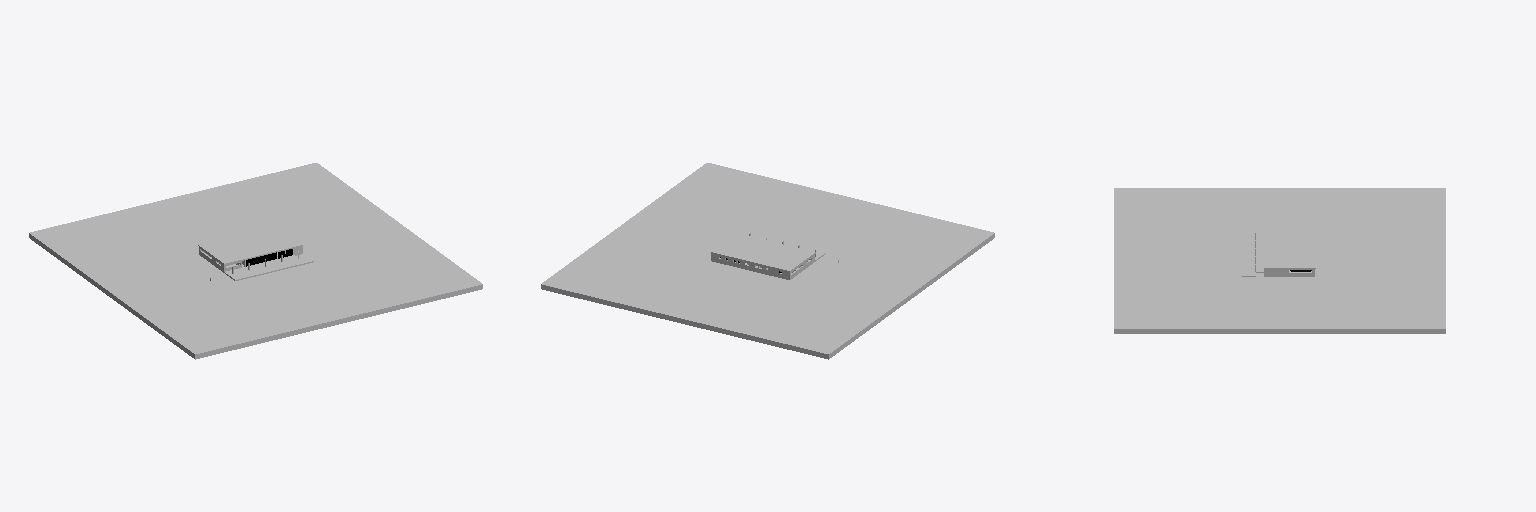
File: noChairsNegativeZforward.obj
3 views of the same model, side by side, from view 1: azimuth 30°, elevation 25°; view 2: azimuth 150°, elevation 25°; view 3: azimuth 270°, elevation 25° (orthographic).
Parts seen in each view (by area): view 1: Box001_Untitled.031, 3dSolid.094_Untitled.815, 3dSolid.012_Untitled.188; view 2: Box001_Untitled.031, 3dSolid.094_Untitled.815, 3dSolid.050_Untitled.793; view 3: Box001_Untitled.031, 3dSolid.094_Untitled.815, 3dSolid.012_Untitled.188.
Part boxes in pixels (left/top/right/bottom): Box001_Untitled.031: left=29, top=163, right=482, bottom=359; 3dSolid.094_Untitled.815: left=198, top=226, right=302, bottom=264; 3dSolid.012_Untitled.188: left=228, top=256, right=313, bottom=280; Box001_Untitled.031: left=541, top=163, right=994, bottom=359; 3dSolid.094_Untitled.815: left=711, top=233, right=815, bottom=271; 3dSolid.050_Untitled.793: left=711, top=253, right=813, bottom=278; Box001_Untitled.031: left=1114, top=188, right=1445, bottom=333; 3dSolid.094_Untitled.815: left=1264, top=229, right=1315, bottom=268; 3dSolid.012_Untitled.188: left=1242, top=237, right=1255, bottom=276.
Bounding box in the file's own units: 294 × 14.67 × 294.